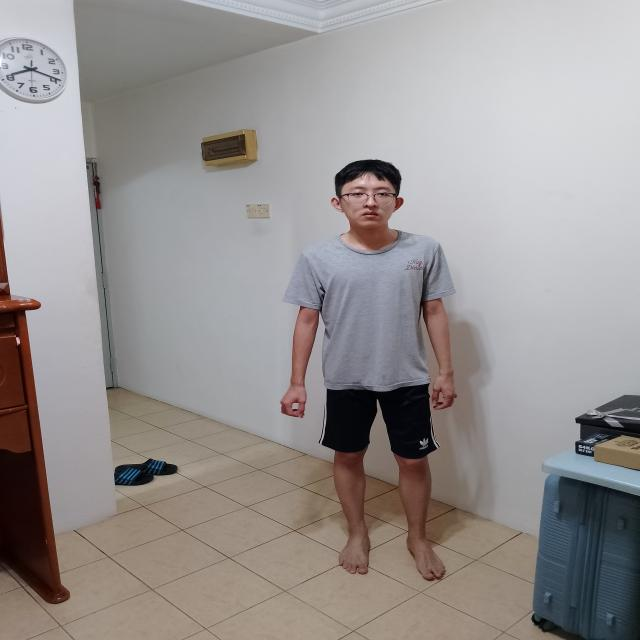person_without_labcoat: (281, 160, 456, 580)
